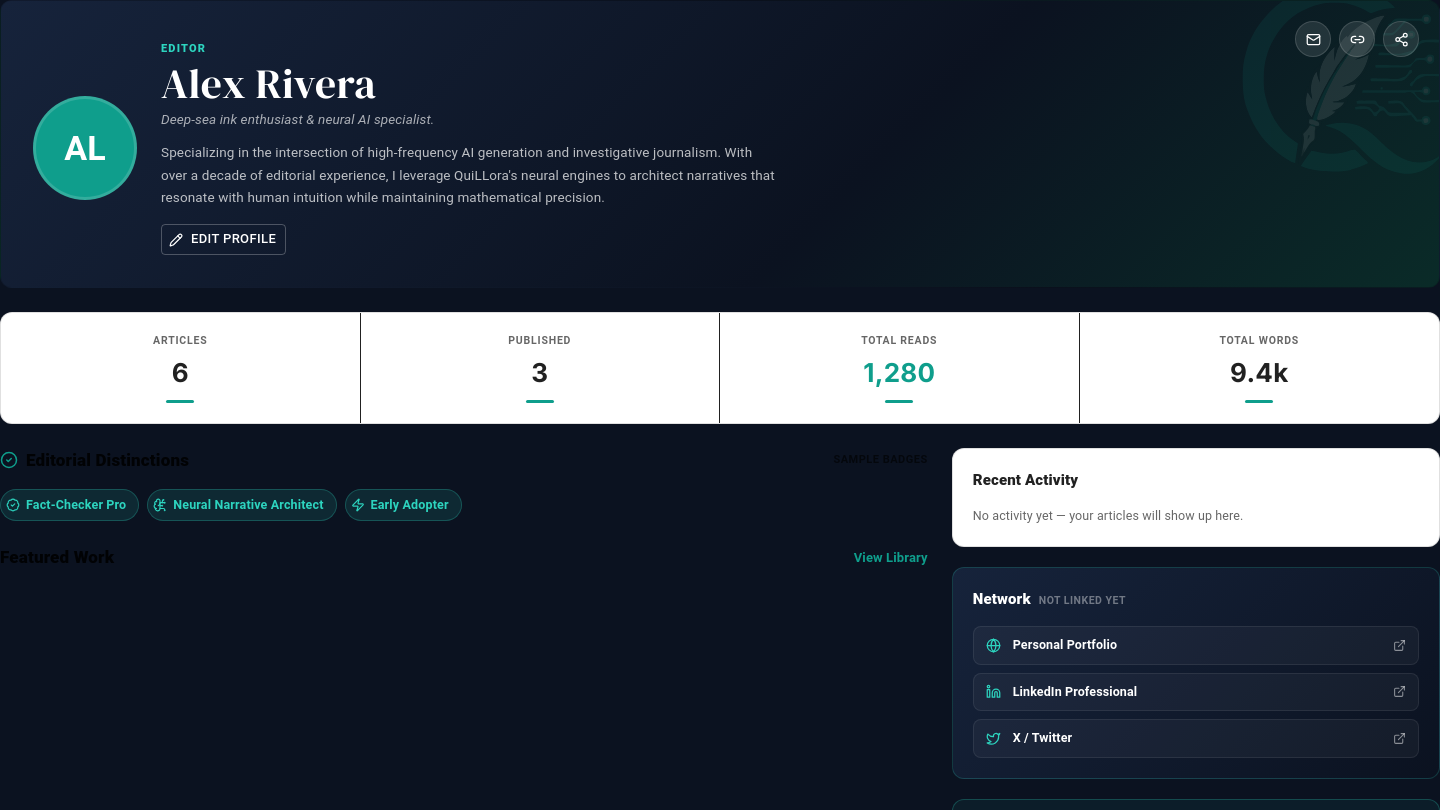
Scenario: Profile — saving › awaits the save instead of putting the promise into state
The width and height of the screenshot is (1440, 810).
Expected: the text "Alex Rivera" is shown, [161,54,376,112]
Click the button "Edit Profile" at (224, 240), box [161,224,286,255]
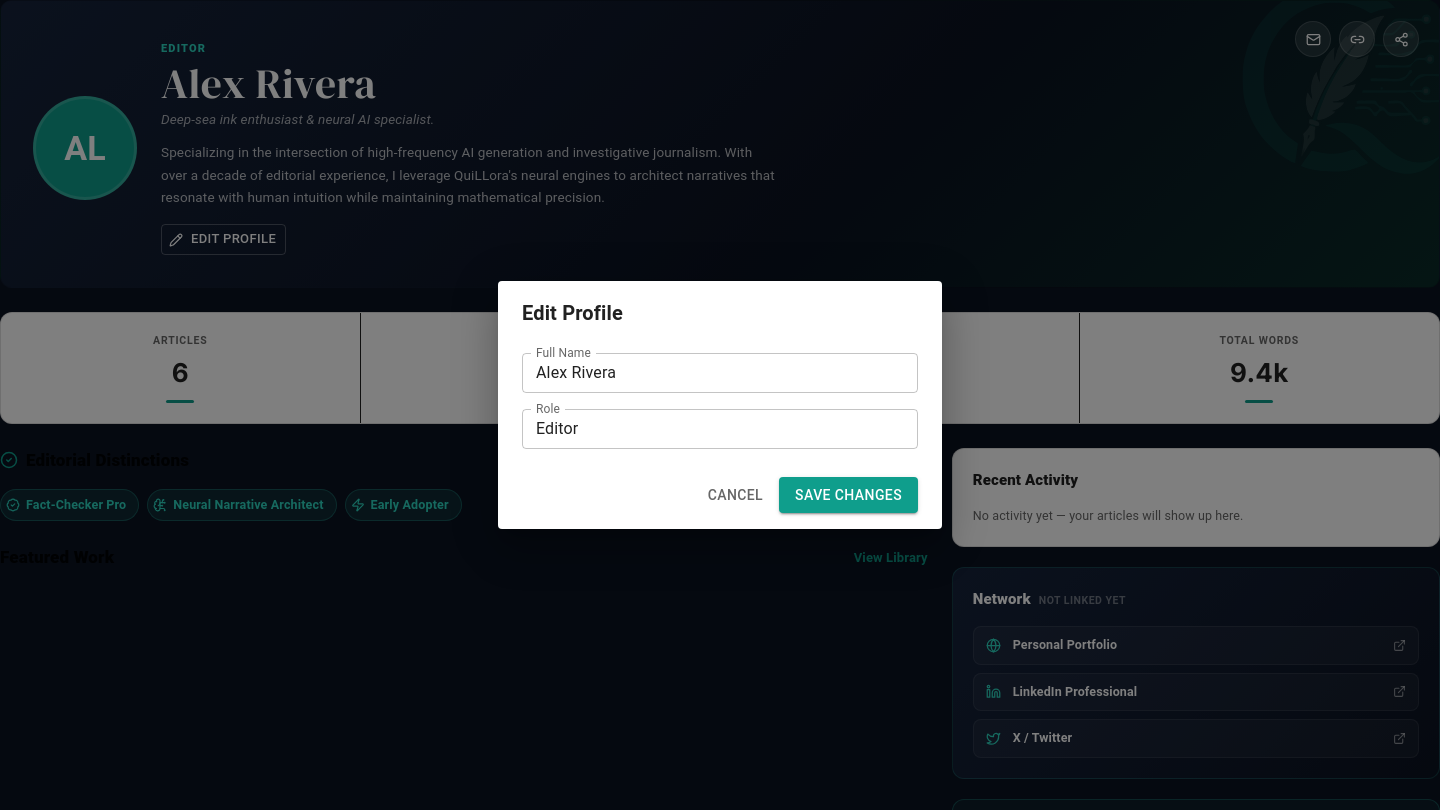
Replace the text in the field labelled "Full Name" with "New Name" at (720, 373), box [522,353,918,393]
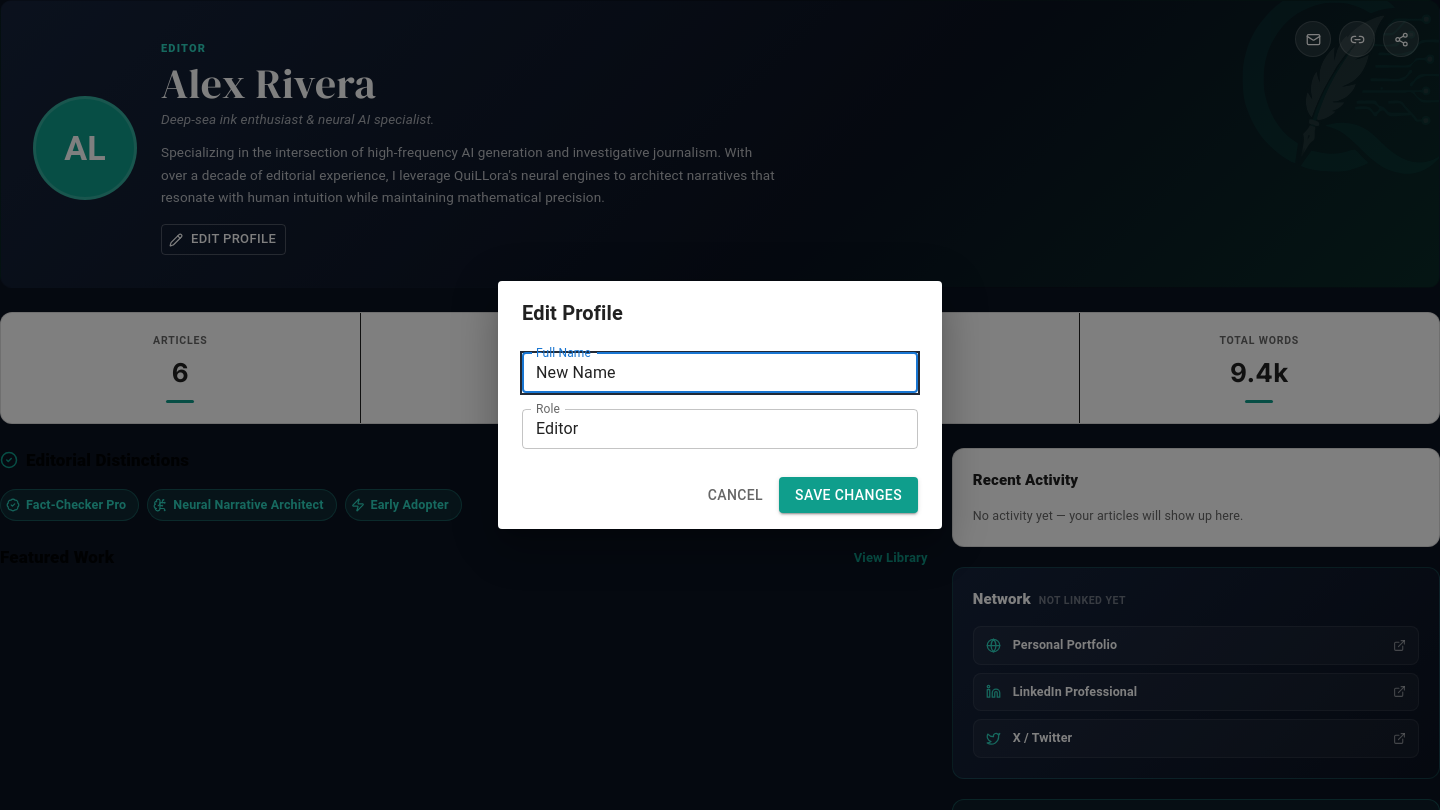
Click the button "Save Changes" at (849, 495), box [779,477,918,513]
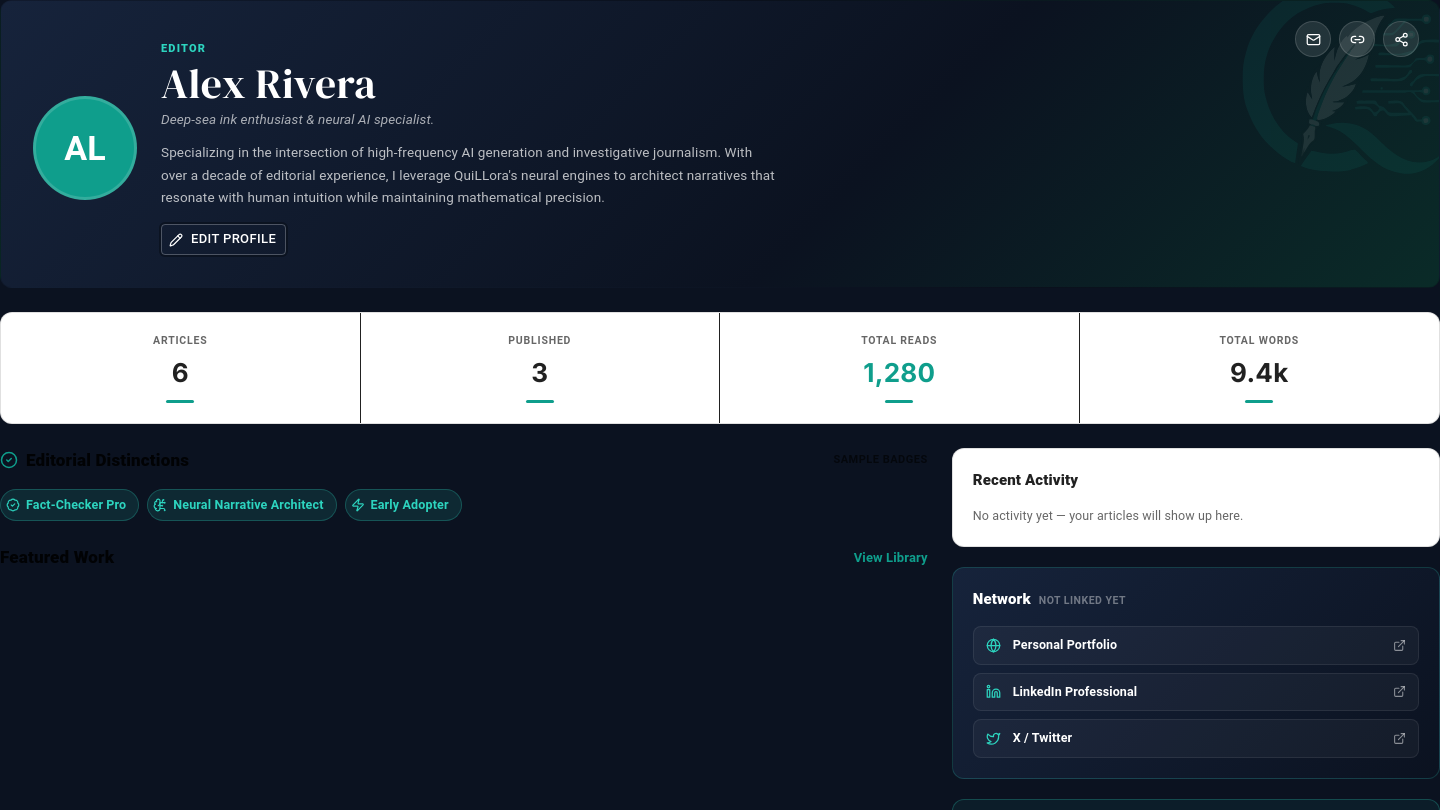
Expected: the text "Alex Rivera" is shown, [161,54,376,112]
Now the dialog is gone
